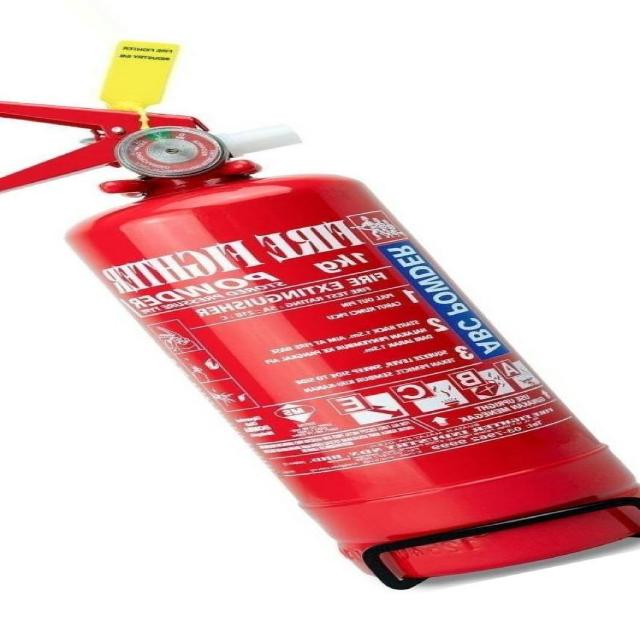fire_extinguisher: (0, 36, 639, 597)
